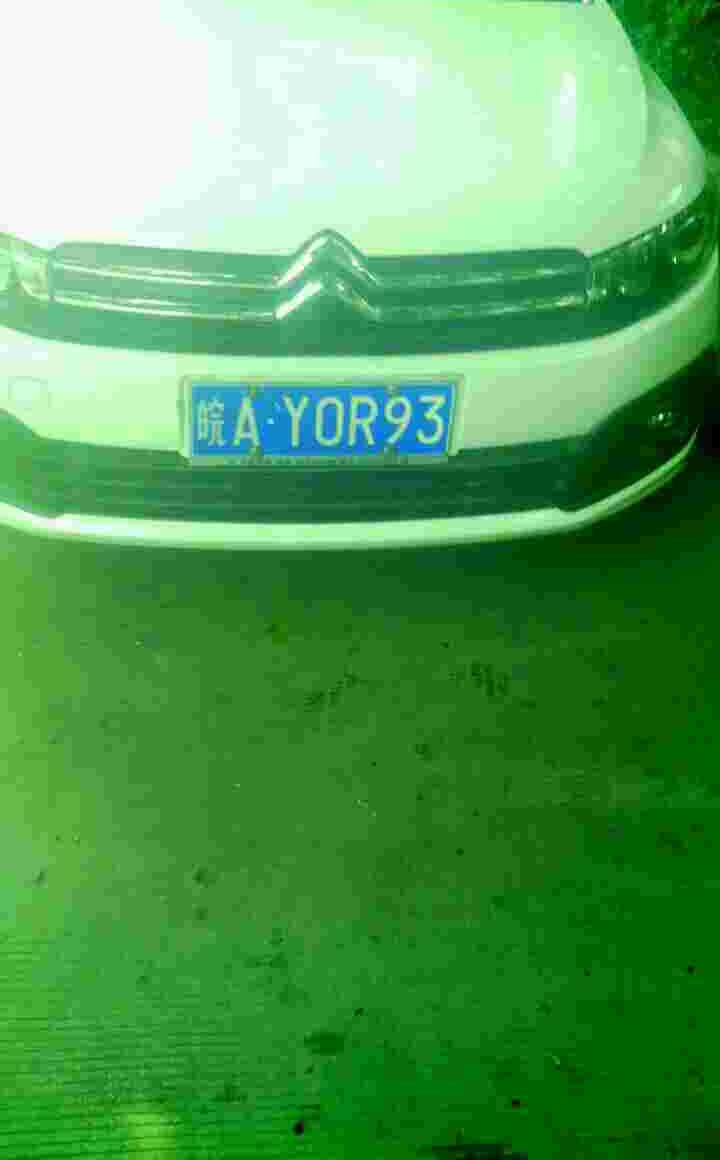license_plate: (193, 386, 454, 446)
